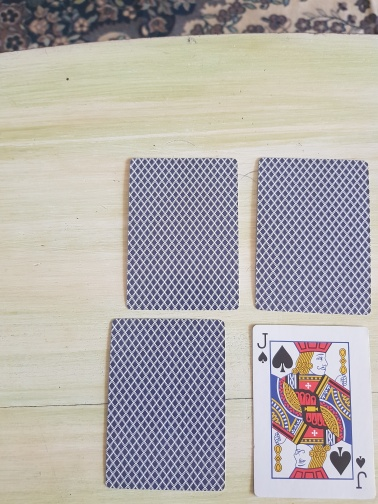jack: (250, 324, 377, 500)
